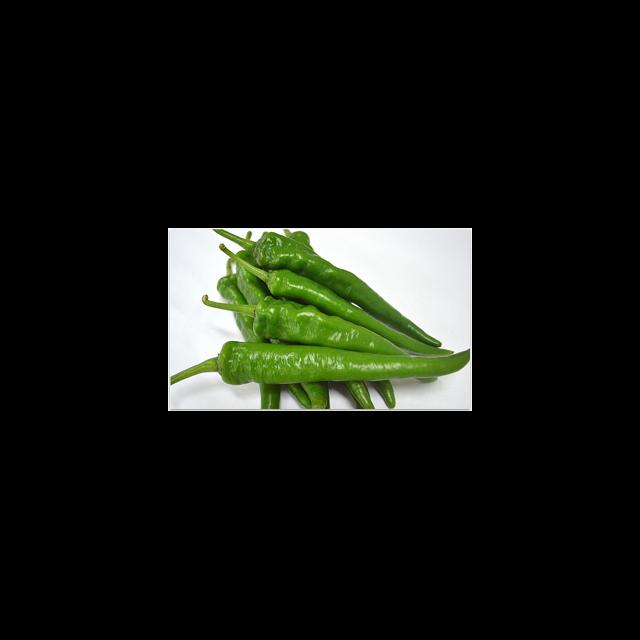chili_pepper: (253, 232, 440, 346), (267, 270, 447, 355), (218, 342, 471, 385), (253, 296, 407, 355), (234, 314, 268, 343), (217, 276, 246, 305)
